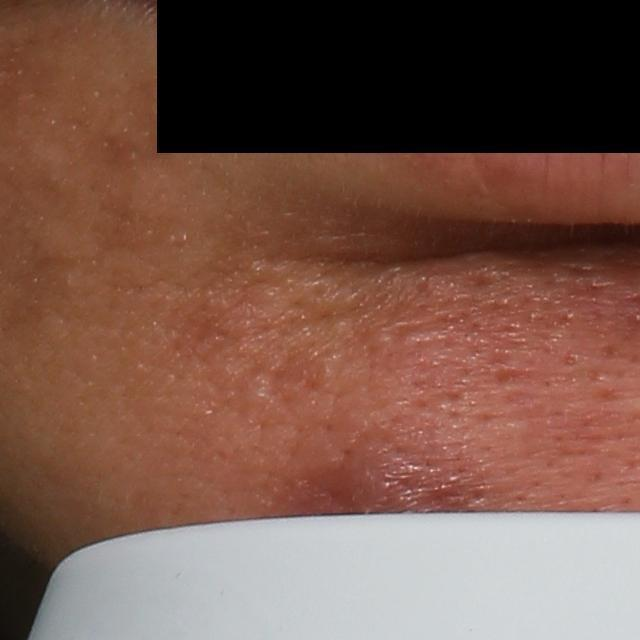comedo: (560, 348, 581, 372)
hypertrophic_scar: (91, 163, 186, 235), (299, 285, 363, 324)
